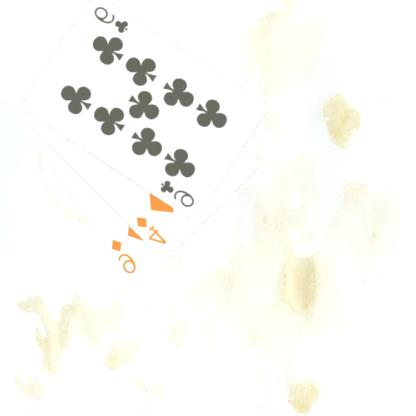4D: (135, 214, 170, 246)
9C: (159, 177, 198, 210), (92, 4, 132, 35)
9D: (110, 236, 139, 276)
